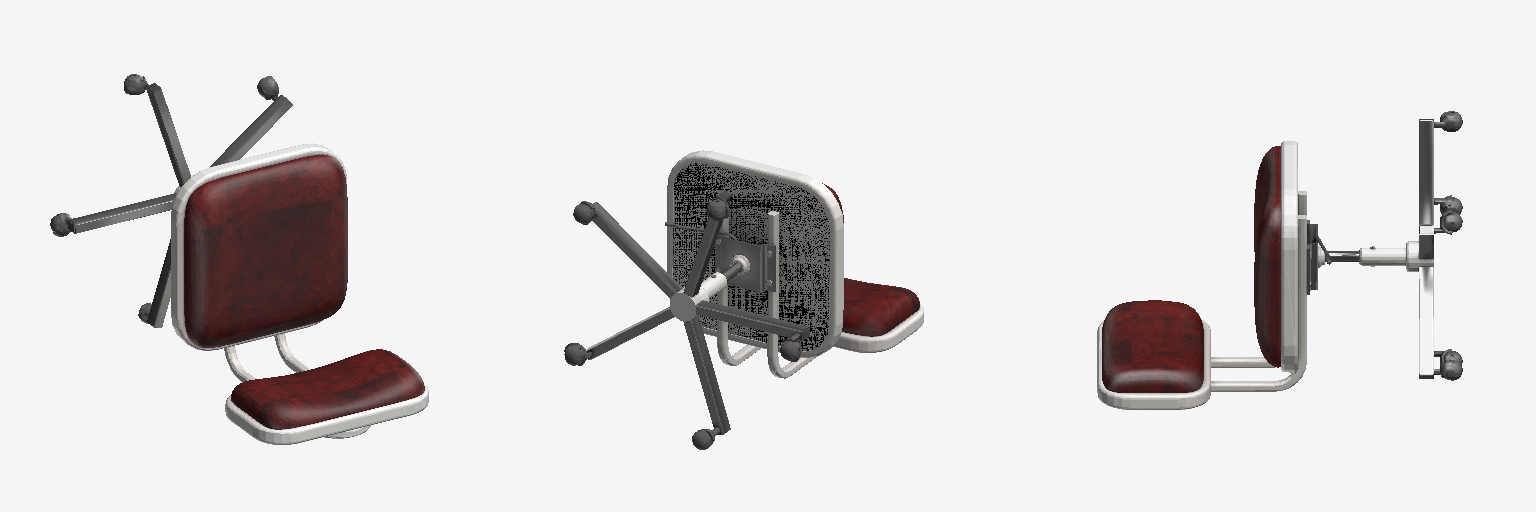
3 renders of one model, left to right at view 1: azimuth 30°, elevation 25°; view 2: azimuth 150°, elevation 25°; view 3: azimuth 270°, elevation 25°, orthographic.
Bounding box in the file's own units: 0.7112 × 0.7275 × 0.9544.
Materials: 1 (1 with a texture image).